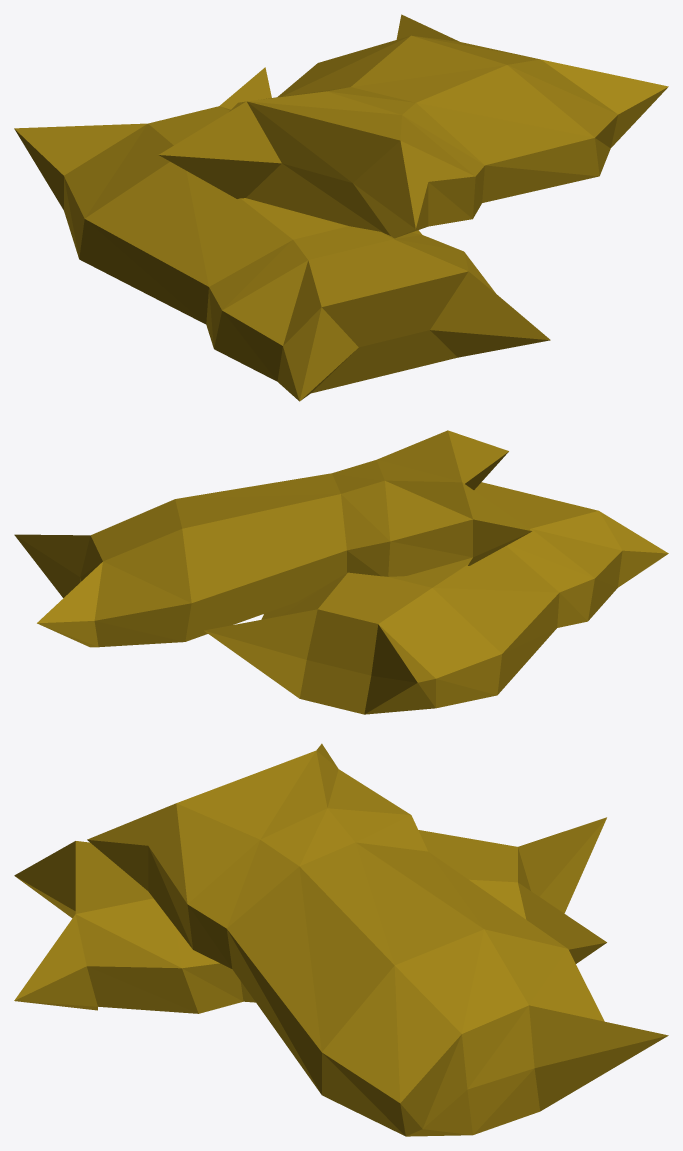
The picture shows the model from 3 angles, top to bottom: view 1: azimuth 30°, elevation 25°; view 2: azimuth 150°, elevation 25°; view 3: azimuth 270°, elevation 25°; orthographic projection. The views are drawn at different scales.
Bounding box in the file's own units: 122 × 41 × 117.
1 material, 1 textured.
